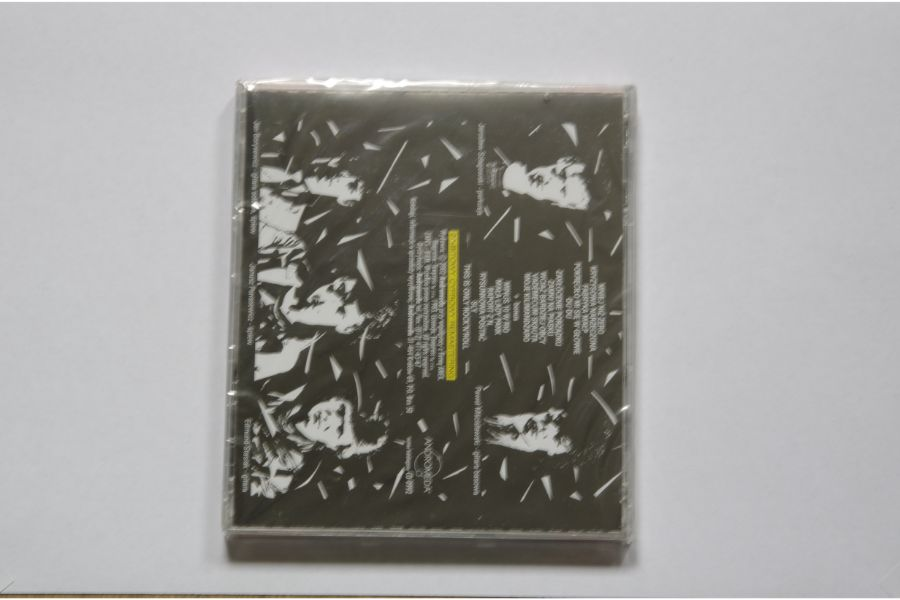album: (223, 80, 636, 543)
